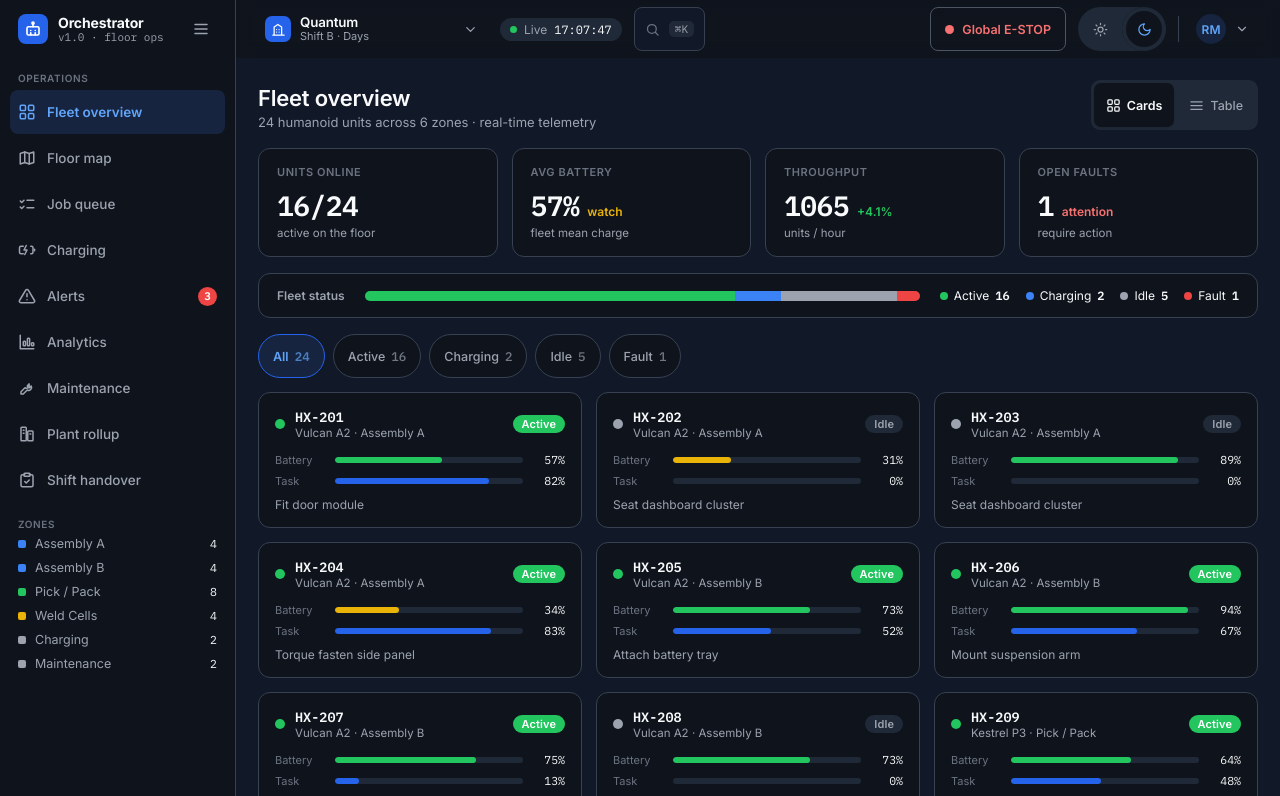
Test: navigation › sidebar "Maintenance" shows the Maintenance & reliability screen
Click the button "Maintenance": (118, 388) [10,366,225,410]
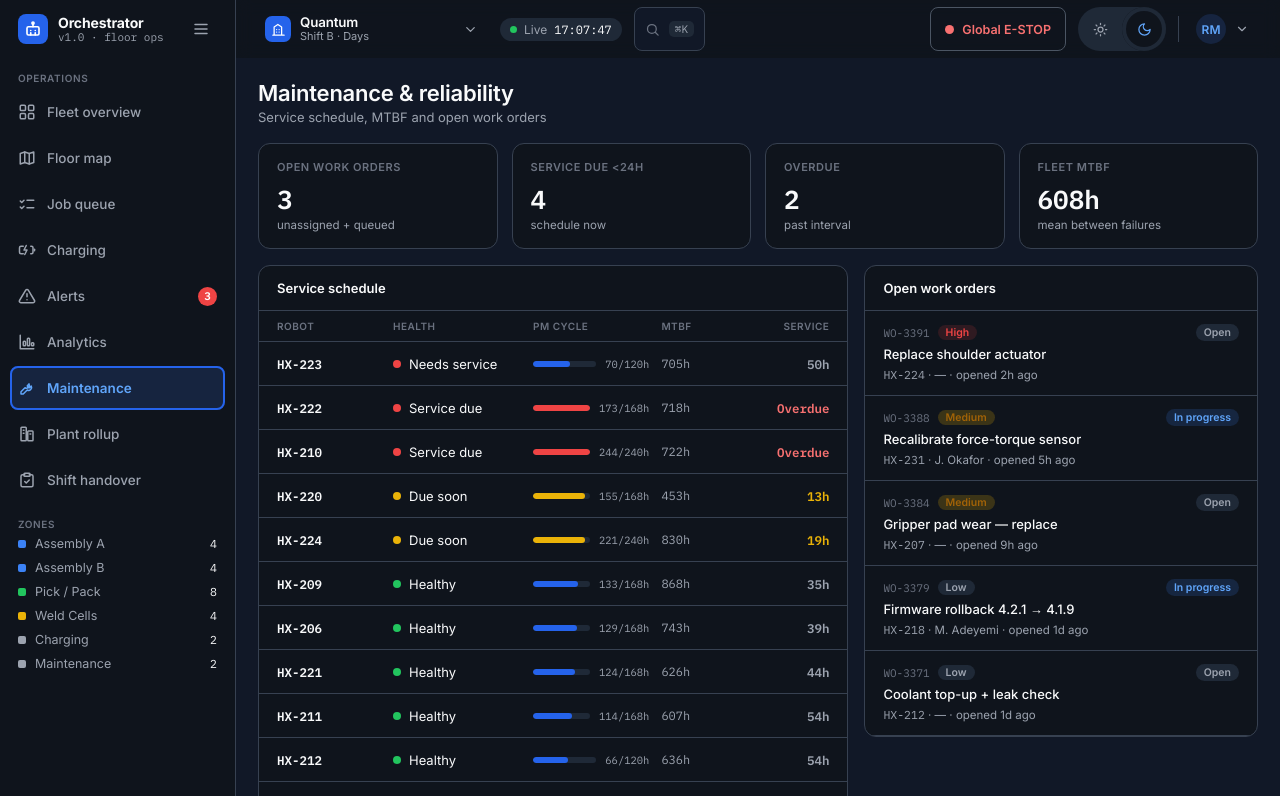
Now the heading "Maintenance & reliability" is shown, box [258,80,547,106]
